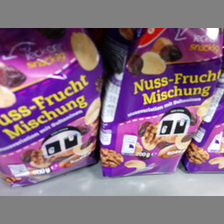nuts: (101, 29, 224, 179), (1, 28, 103, 188)
